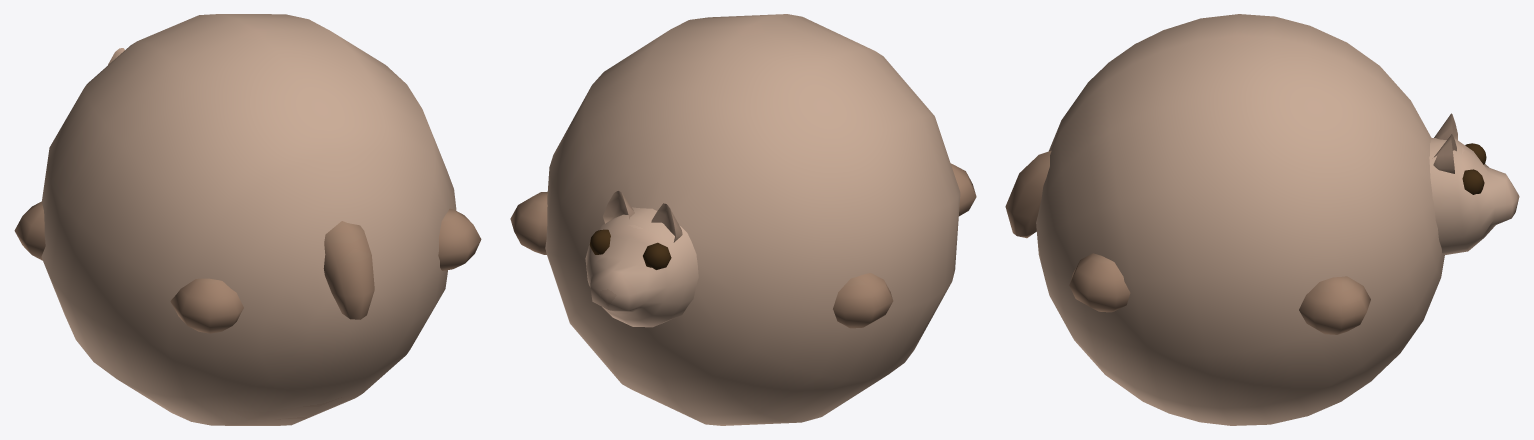
The model's file is Cat.fbx.
3 renders of one model, left to right at view 1: azimuth 30°, elevation 25°; view 2: azimuth 150°, elevation 25°; view 3: azimuth 270°, elevation 25°, orthographic.
Visible parts, largest first — view 1: Cat; view 2: Cat; view 3: Cat.
Boxes of the visible parts, left/top/right/bottom form: Cat: left=14, top=14, right=481, bottom=425; Cat: left=510, top=14, right=976, bottom=425; Cat: left=1005, top=14, right=1519, bottom=425.
Size of the model in its own units: 11.92 by 11.63 by 14.51.
